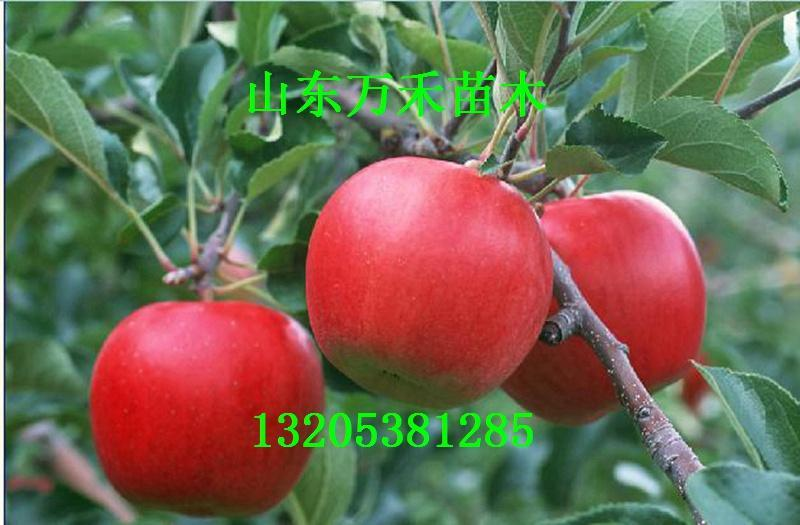apple: (307, 155, 551, 407), (90, 297, 327, 516), (505, 190, 704, 426)
